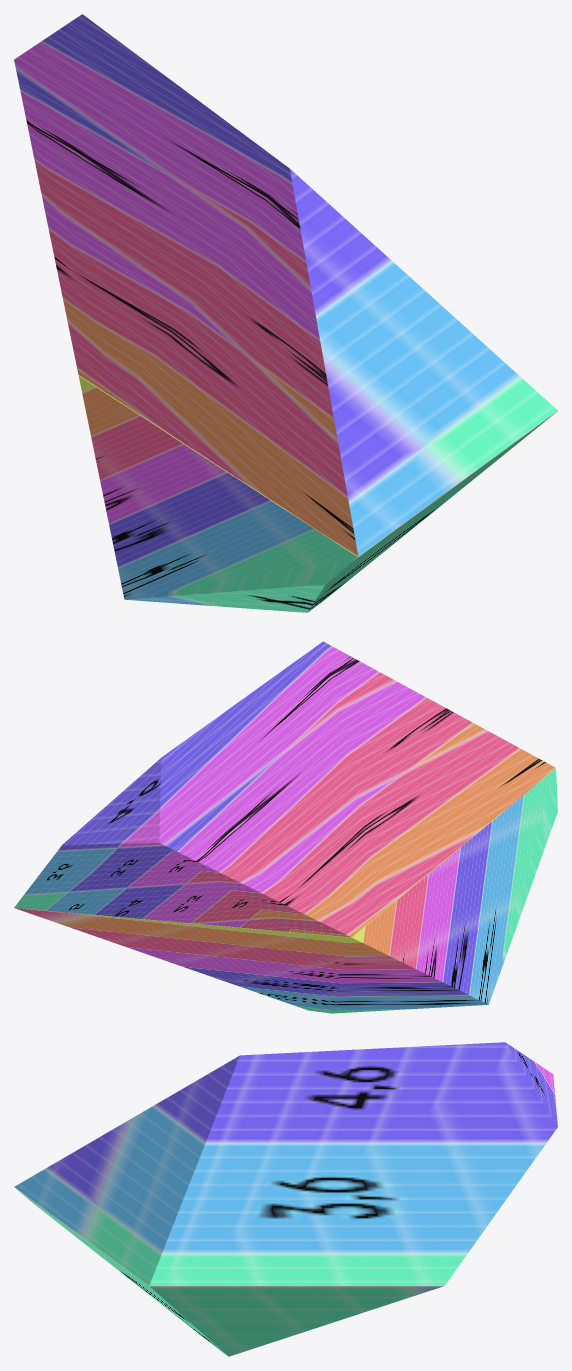
Rendered from CoreFraction2.obj.
3 renders of one model, top to bottom at view 1: azimuth 30°, elevation 25°; view 2: azimuth 150°, elevation 25°; view 3: azimuth 270°, elevation 25°, orthographic. The views are drawn at different scales.
Visible parts, largest first — view 1: 円柱.001; view 2: 円柱.001; view 3: 円柱.001.
Boxes of the visible parts, bbox=[...] form: 円柱.001: bbox=[14, 14, 557, 612]; 円柱.001: bbox=[14, 641, 557, 1013]; 円柱.001: bbox=[14, 1042, 557, 1356].
Size of the model in its own units: 1 by 1.14 by 1.84.
